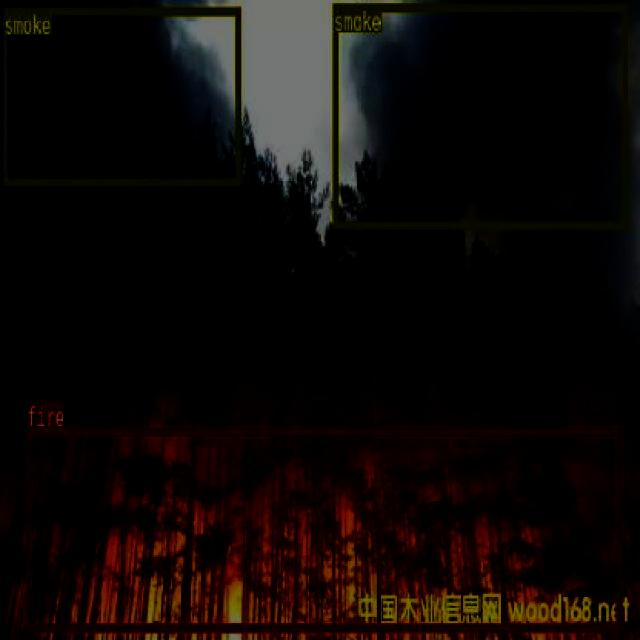fire: (26, 426, 620, 632)
smoke: (332, 1, 626, 228), (2, 6, 240, 186)
